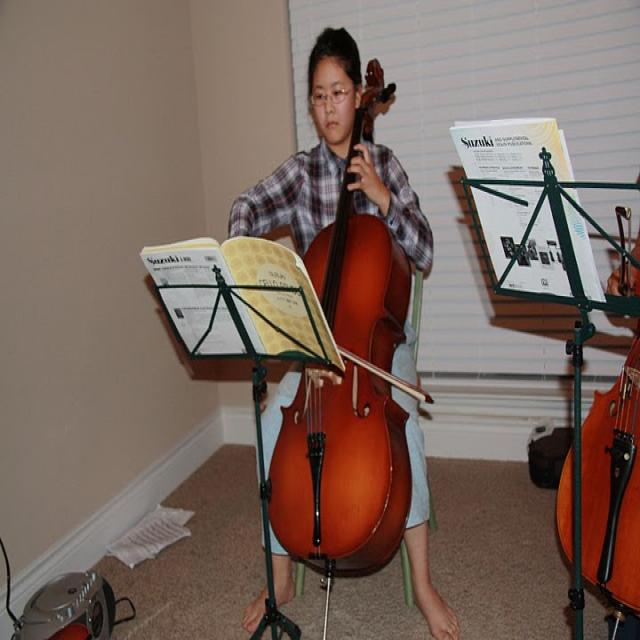cello: (264, 54, 414, 581), (553, 214, 640, 618)
